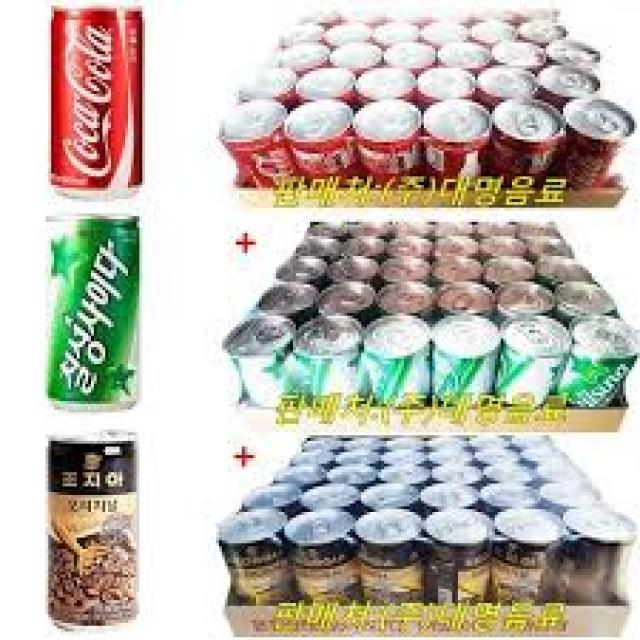Coca-Cola: (39, 0, 145, 207)
